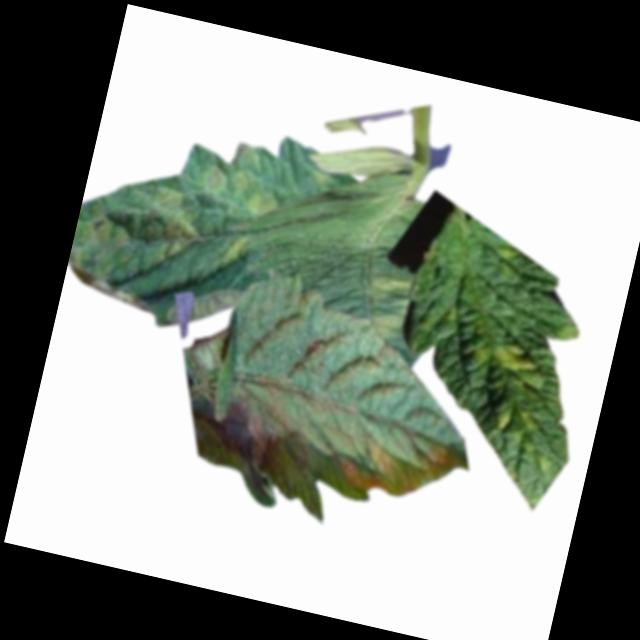Leaf_Mold: (71, 170, 207, 296), (328, 416, 463, 516), (193, 135, 288, 222), (350, 263, 416, 344), (470, 331, 550, 390), (490, 395, 546, 445), (216, 229, 255, 276)
